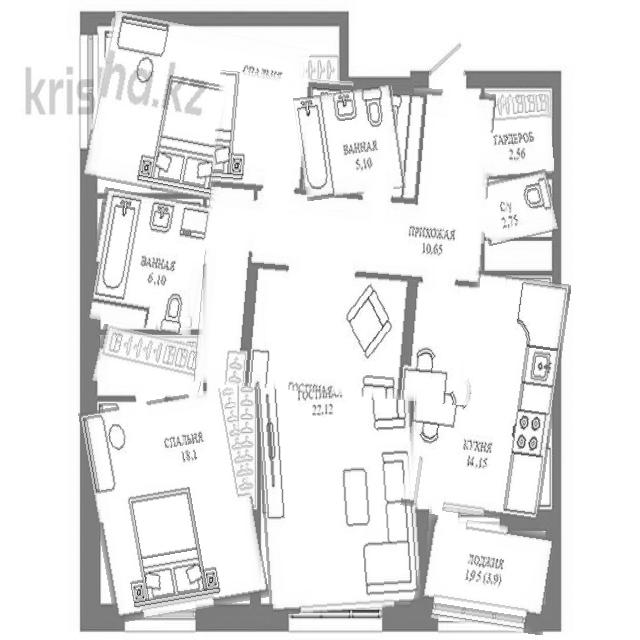balcony: (414, 518, 554, 631)
bathroom: (88, 192, 208, 332), (296, 88, 403, 198), (478, 172, 558, 243)
hallway: (197, 93, 496, 385)
kitchen: (408, 270, 563, 520)
living_room: (252, 274, 418, 613), (88, 20, 303, 205), (86, 392, 261, 618)
other: (94, 329, 206, 398), (483, 95, 552, 178)
